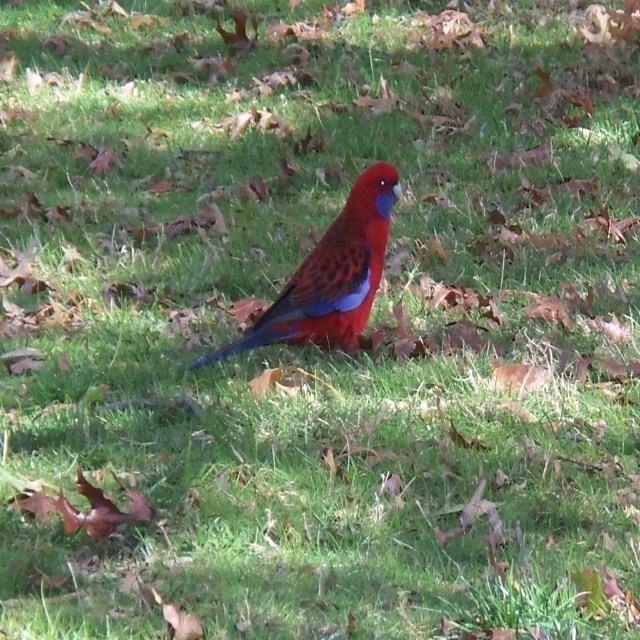Parrot: (188, 161, 401, 375)
